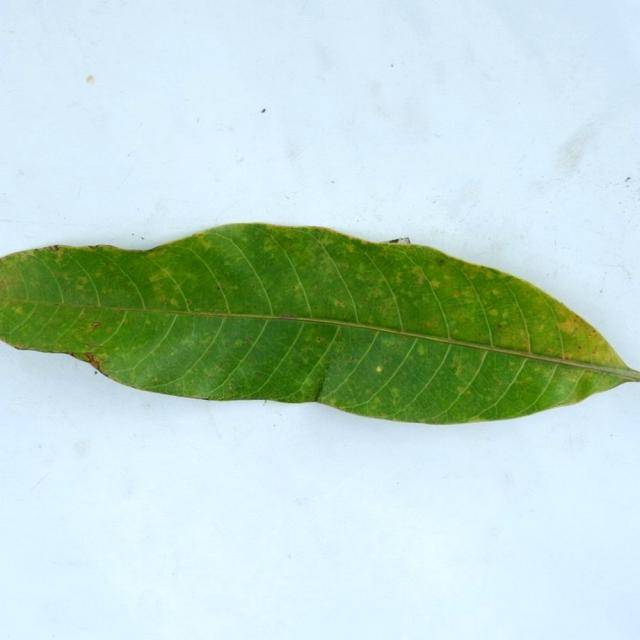Mango: (0, 224, 639, 424)
Powdery_Mildew: (0, 257, 50, 313), (76, 307, 138, 351), (528, 364, 588, 408), (569, 370, 607, 403), (454, 286, 481, 306), (520, 313, 532, 355), (183, 227, 217, 240), (413, 342, 430, 360), (84, 355, 103, 371), (558, 318, 578, 333), (477, 348, 489, 370), (203, 366, 221, 379), (263, 239, 279, 252), (148, 272, 165, 284), (324, 393, 339, 406), (0, 276, 11, 293), (369, 289, 384, 300), (449, 357, 461, 370), (52, 248, 65, 260), (77, 276, 89, 287), (278, 313, 299, 319), (415, 274, 426, 285), (453, 365, 464, 375), (582, 371, 593, 381), (12, 305, 24, 314), (84, 342, 97, 350), (417, 417, 434, 423), (335, 405, 352, 411), (390, 387, 400, 397), (394, 274, 404, 284), (345, 244, 356, 253), (334, 300, 346, 308), (233, 339, 244, 347), (522, 376, 533, 384), (228, 284, 239, 292), (169, 298, 178, 307), (430, 280, 440, 288), (285, 239, 295, 247), (47, 245, 60, 251), (451, 290, 460, 298), (205, 370, 214, 378), (538, 325, 547, 333), (489, 309, 499, 316), (87, 244, 100, 249), (502, 312, 510, 320), (491, 289, 500, 296), (457, 387, 466, 394), (424, 321, 433, 328), (293, 283, 301, 290), (76, 283, 84, 290), (315, 336, 323, 343), (562, 354, 571, 360), (90, 322, 100, 327), (160, 296, 167, 303), (336, 338, 343, 345), (228, 383, 234, 390), (243, 337, 250, 343), (438, 259, 445, 265), (591, 328, 597, 334), (592, 348, 598, 354), (496, 322, 502, 328), (376, 366, 382, 372), (318, 243, 324, 249), (263, 399, 268, 406), (33, 247, 40, 252), (146, 320, 151, 326), (153, 377, 158, 382), (186, 300, 191, 305), (577, 345, 582, 350), (216, 285, 221, 290)
